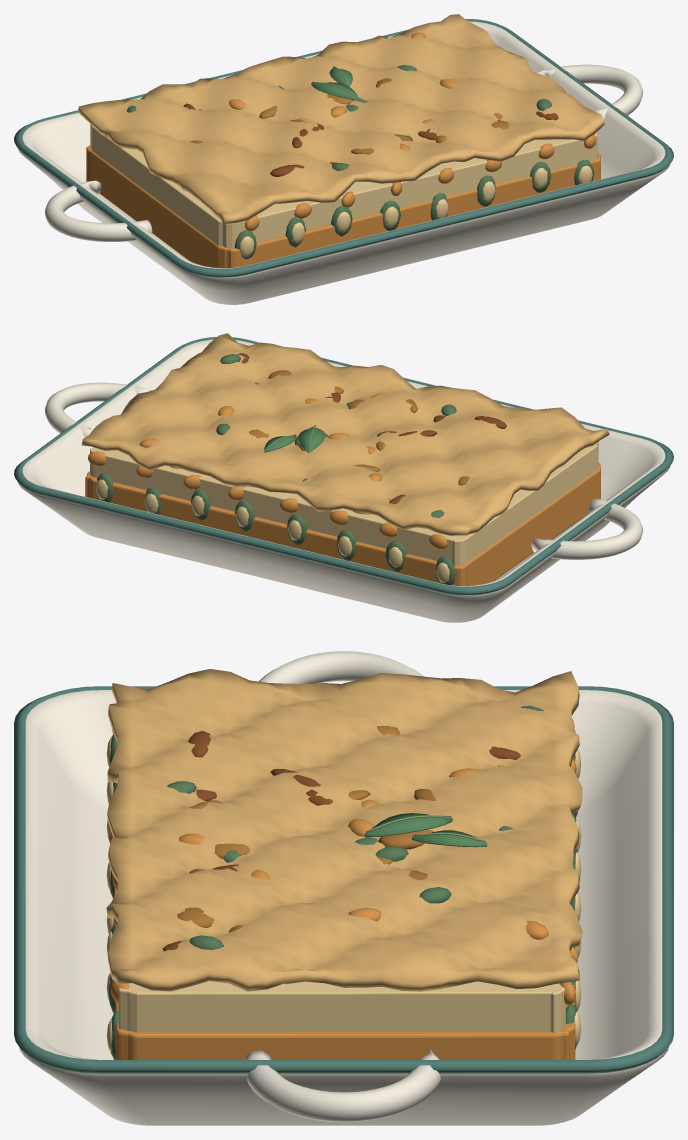
Rendered from meal_harvest_bake_serving.glb.
The picture shows the model from 3 angles, top to bottom: view 1: azimuth 30°, elevation 25°; view 2: azimuth 150°, elevation 25°; view 3: azimuth 270°, elevation 25°; orthographic projection. The views are drawn at different scales.
Visible parts, largest first — view 1: FoodGeometry, DishGeometry; view 2: FoodGeometry, DishGeometry; view 3: FoodGeometry, DishGeometry.
Boxes of the visible parts, bbox=[...] form: FoodGeometry: bbox=[78, 14, 604, 267]; DishGeometry: bbox=[14, 19, 673, 304]; FoodGeometry: bbox=[81, 333, 609, 585]; DishGeometry: bbox=[14, 337, 673, 622]; FoodGeometry: bbox=[106, 669, 582, 1059]; DishGeometry: bbox=[14, 651, 673, 1125].
Bounding box in the file's own units: 0.498 × 0.0862 × 0.306.
